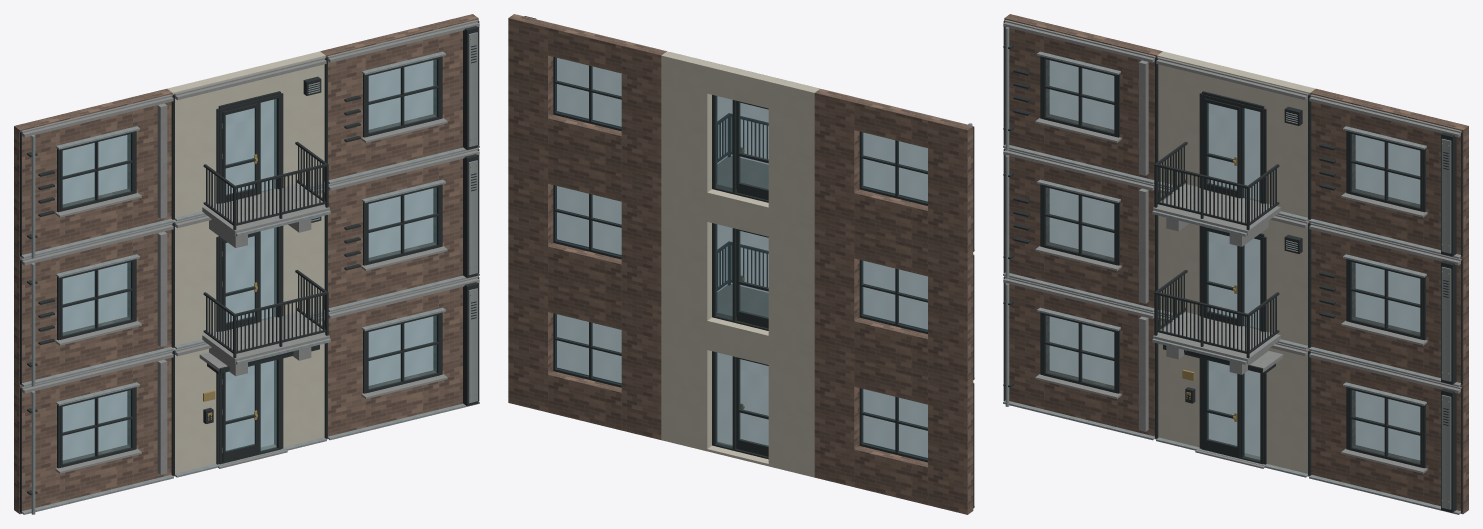
Rendered from PROJECT_Z_Keldvale_ThreeFloor_Apartment_Facade_Kit.glb.
3 renders of one model, left to right at view 1: azimuth 30°, elevation 25°; view 2: azimuth 150°, elevation 25°; view 3: azimuth 330°, elevation 25°, orthographic.
Parts seen in each view (by area): view 1: F03_B02_Wall_LeftPier, F03_B01_Wall_LeftPier, F01_B01_Wall_LeftPier, F02_B02_Wall_LeftPier, F03_B02_Wall_RightPier, F01_B02_Wall_LeftPier, F02_B01_Wall_LeftPier, F03_B03_Wall_LeftPier, F01_B03_Wall_LeftPier, F02_B03_Wall_LeftPier, F01_B02_Wall_RightPier, F03_B01_Wall_RightPier (+93 smaller); view 2: F03_B02_Wall_RightPier, F01_B02_Wall_RightPier, F02_B02_Wall_RightPier, F03_B02_Wall_LeftPier, F03_B01_Wall_LeftPier, F01_B02_Wall_LeftPier, F02_B02_Wall_LeftPier, F01_B01_Wall_LeftPier, F02_B01_Wall_LeftPier, F03_B01_Wall_RightPier, F03_B03_Wall_RightPier, F02_B01_Wall_RightPier (+56 smaller); view 3: F03_B02_Wall_RightPier, F03_B02_Wall_LeftPier, F01_B02_Wall_RightPier, F03_B03_Wall_LeftPier, F01_B03_Wall_LeftPier, F02_B02_Wall_RightPier, F02_B03_Wall_LeftPier, F03_B01_Wall_LeftPier, F01_B01_Wall_LeftPier, F02_B01_Wall_LeftPier, F01_B02_Wall_LeftPier, F03_B03_Wall_RightPier (+92 smaller).
Boxes of the visible parts, x1,y1,x2,y2 form: F03_B02_Wall_LeftPier: (167,77,218,220); F03_B01_Wall_LeftPier: (14,116,59,257); F01_B01_Wall_LeftPier: (14,382,59,514); F02_B02_Wall_LeftPier: (173,220,218,348); F03_B02_Wall_RightPier: (274,51,325,188); F01_B02_Wall_LeftPier: (173,348,216,476); F02_B01_Wall_LeftPier: (14,254,59,385); F03_B03_Wall_LeftPier: (320,41,365,179); F01_B03_Wall_LeftPier: (326,310,365,439); F02_B03_Wall_LeftPier: (328,182,365,307); F01_B02_Wall_RightPier: (274,321,324,447); F03_B01_Wall_RightPier: (127,88,172,227); F03_B02_Wall_RightPier: (661,51,712,194); F01_B02_Wall_RightPier: (661,312,711,451); F02_B02_Wall_RightPier: (661,184,711,322); F03_B02_Wall_LeftPier: (768,77,819,220); F03_B01_Wall_LeftPier: (928,116,973,258); F01_B02_Wall_LeftPier: (768,338,814,477); F02_B02_Wall_LeftPier: (768,210,814,349); F01_B01_Wall_LeftPier: (928,377,973,514); F02_B01_Wall_LeftPier: (928,249,973,386); F03_B01_Wall_RightPier: (814,89,859,230); F03_B03_Wall_RightPier: (508,14,553,155); F02_B01_Wall_RightPier: (814,221,859,358); F03_B02_Wall_RightPier: (1264,77,1315,220); F03_B02_Wall_LeftPier: (1157,51,1208,186); F01_B02_Wall_RightPier: (1266,348,1309,476); F03_B03_Wall_LeftPier: (1310,88,1355,227); F01_B03_Wall_LeftPier: (1310,350,1355,483); F02_B02_Wall_RightPier: (1264,219,1309,348); F02_B03_Wall_LeftPier: (1310,222,1355,355); F03_B01_Wall_LeftPier: (1004,14,1049,153); F01_B01_Wall_LeftPier: (1004,276,1049,409); F02_B01_Wall_LeftPier: (1004,148,1049,281); F01_B02_Wall_LeftPier: (1158,321,1208,447); F03_B03_Wall_RightPier: (1423,116,1468,257).
Size of the model in its own units: 12 by 9.6 by 1.84.
Materials: 8 (8 with a texture image).
